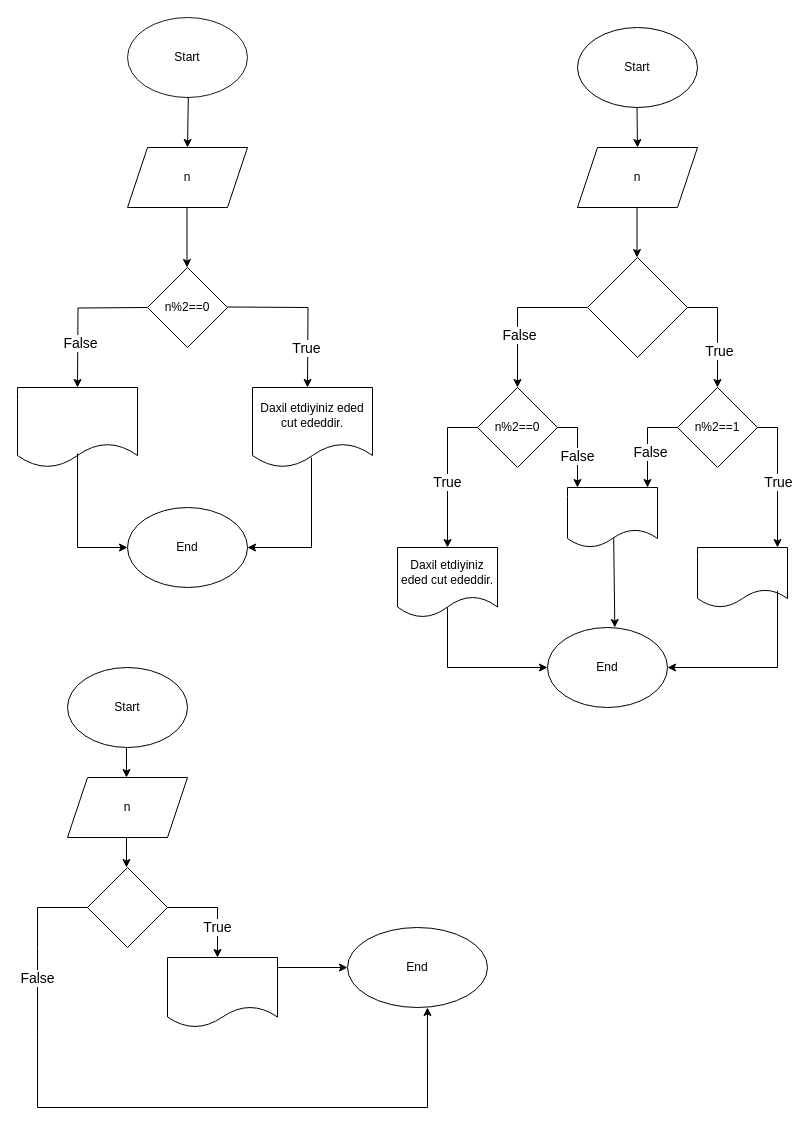
Image size: 809x1133. Some labels were removed from this diagram. Here are the shapes that lost their labels. From the top down, the centre of each, then its label:
At [637,307]: "n>100".
At [77,427]: "Daxil etdiyiniz eded tek ededdir.".
At [612,517]: "Duzgun eded daxil edilmeyib".
At [742,577]: "daxil etdiyiniz eded tek ededdir".
At [127,907]: "n<0".
At [222,992]: "num=n%10; sum +=num; n=Math.floor(n/10)".
